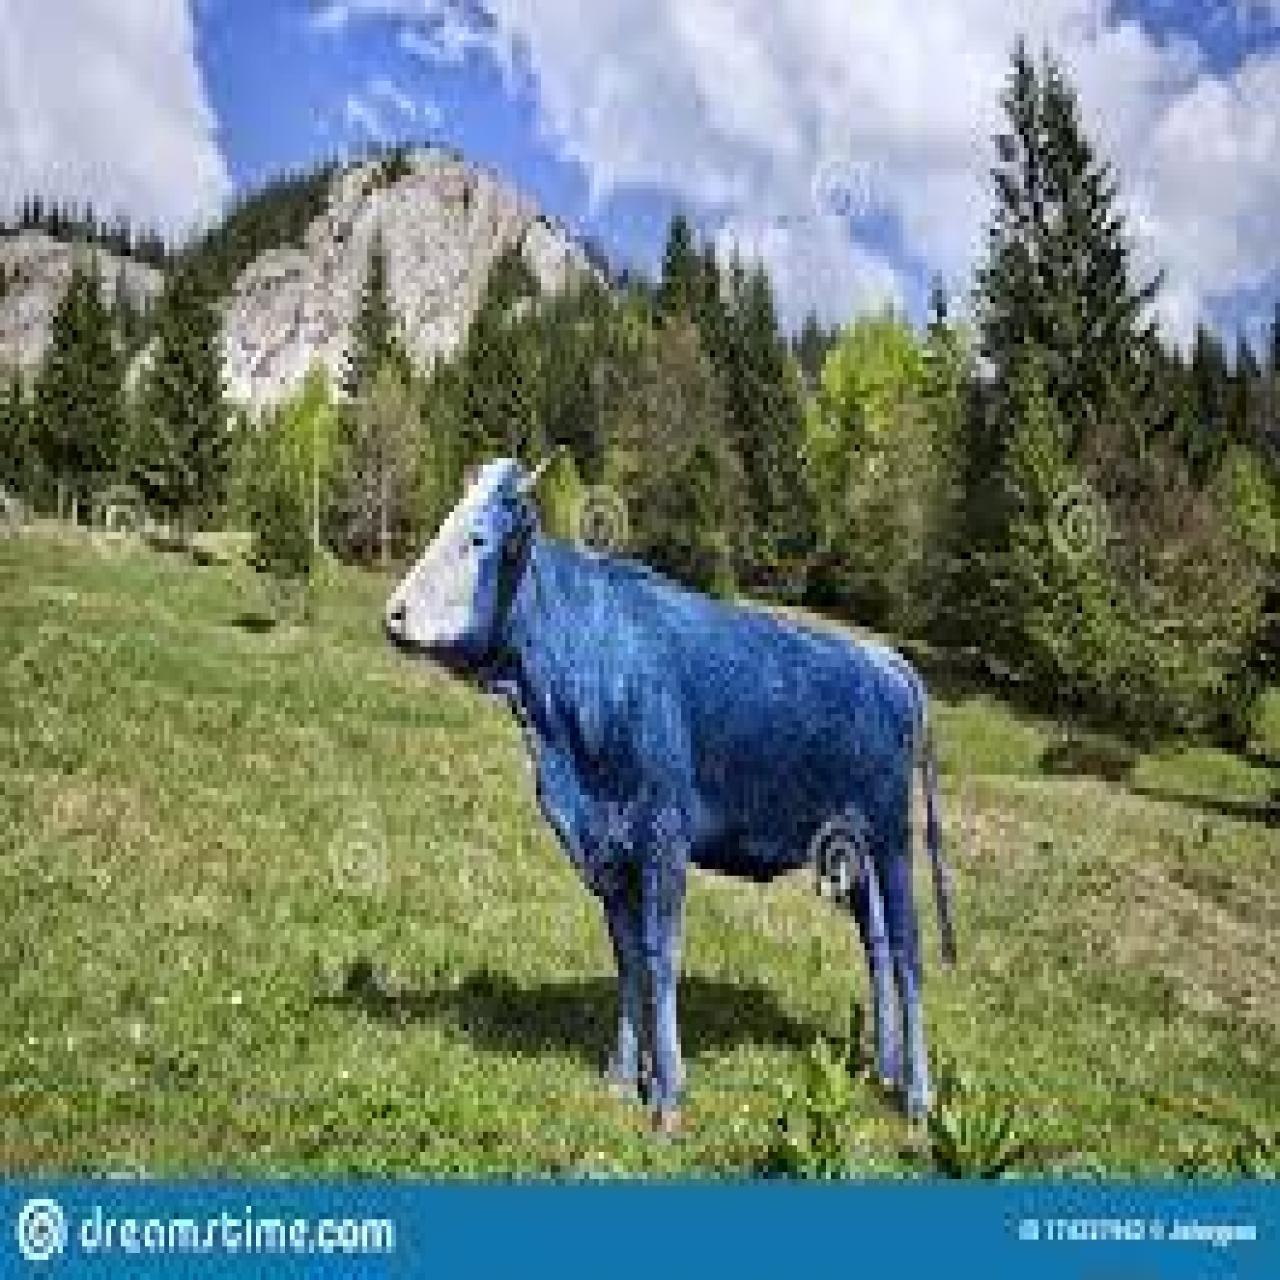cow: (382, 441, 966, 1142)
